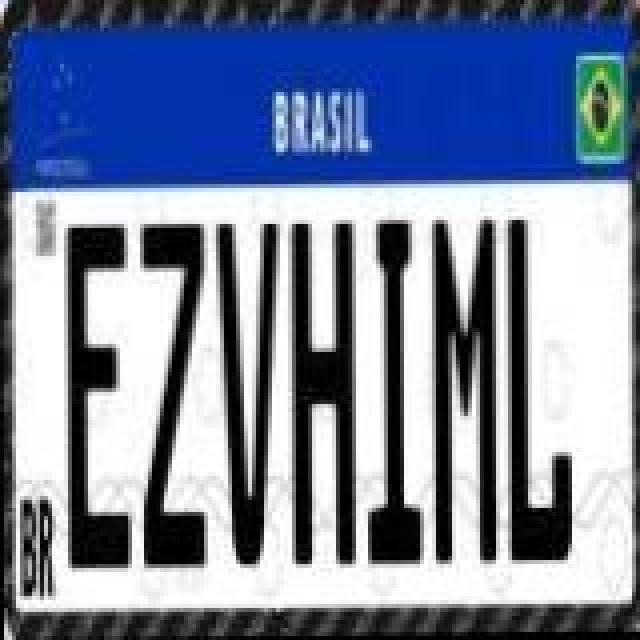E: (64, 224, 132, 572)
H: (288, 220, 356, 572)
I: (364, 222, 424, 570)
L: (504, 214, 572, 566)
M: (432, 218, 500, 570)
V: (216, 218, 284, 570)
Z: (136, 218, 204, 570)
